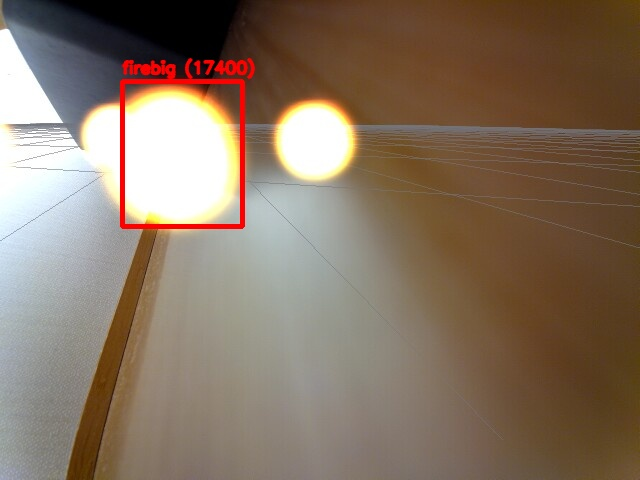firebig: (122, 81, 242, 226)
